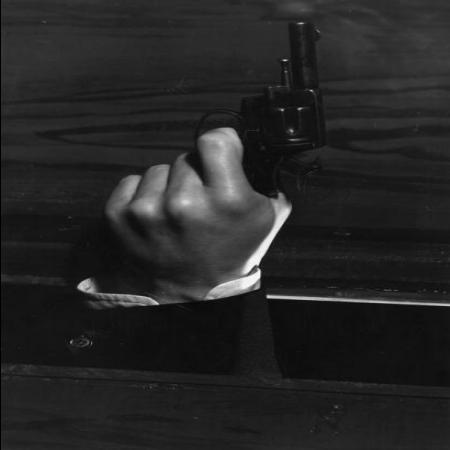Pistol: (194, 20, 324, 214)
